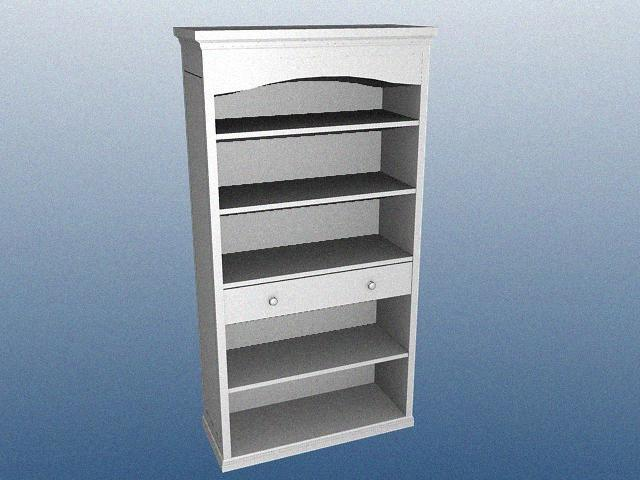cabinet_door: (225, 276, 412, 310)
handle: (364, 280, 377, 293), (266, 295, 278, 308)
